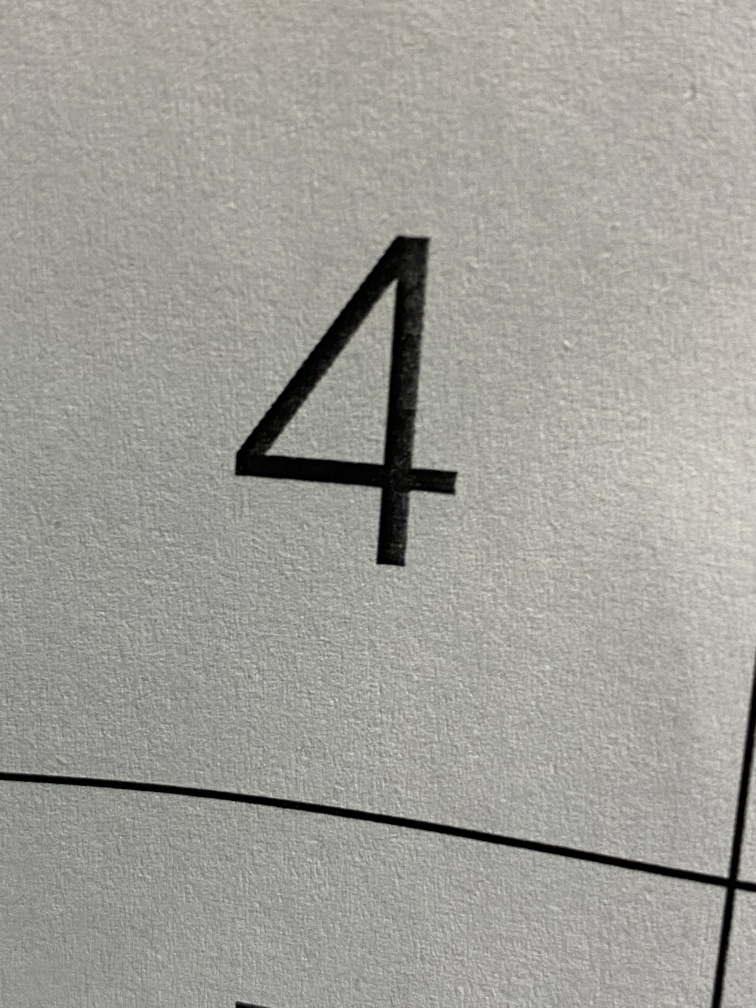four: (200, 160, 551, 646)
